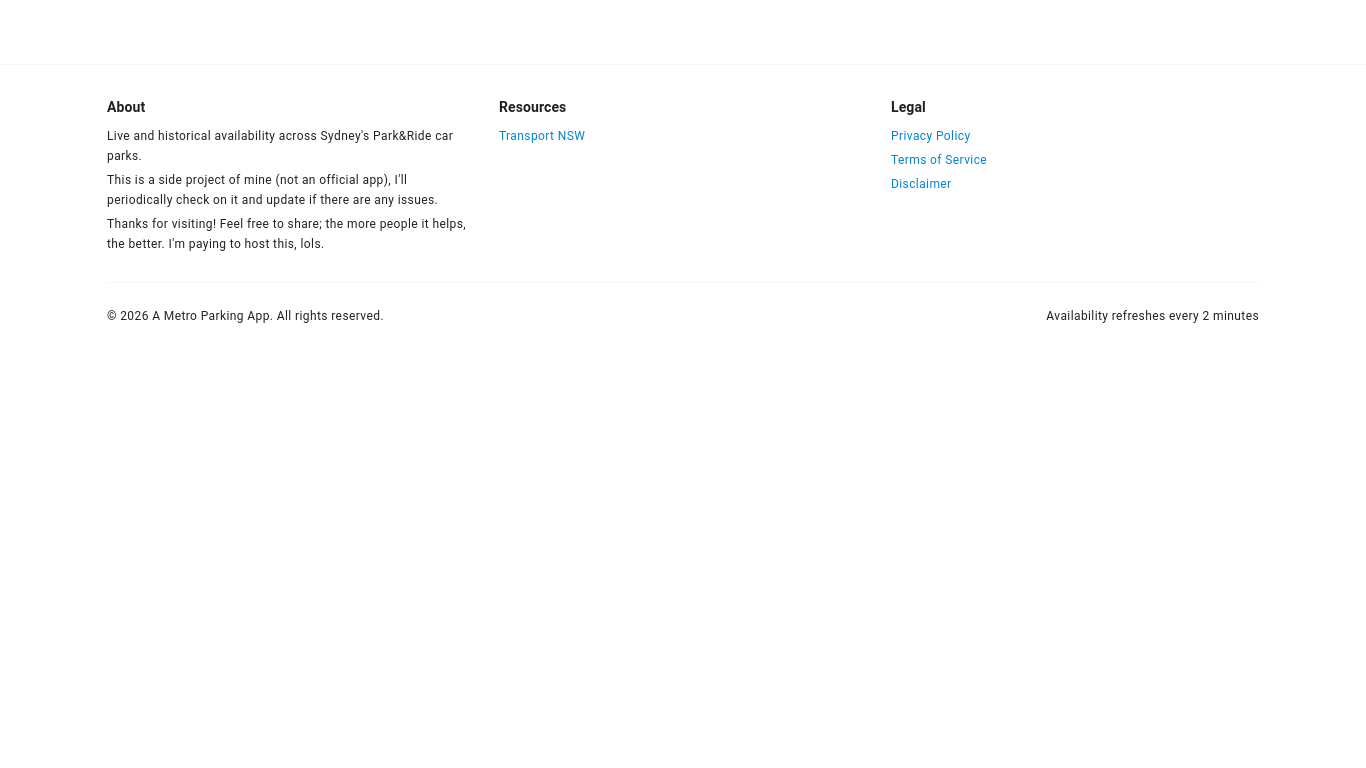
Scenario: Footer › opens privacy policy dialog
Step 1. Click the button "Privacy Policy" → (931, 136), box [891,127,1259,147]
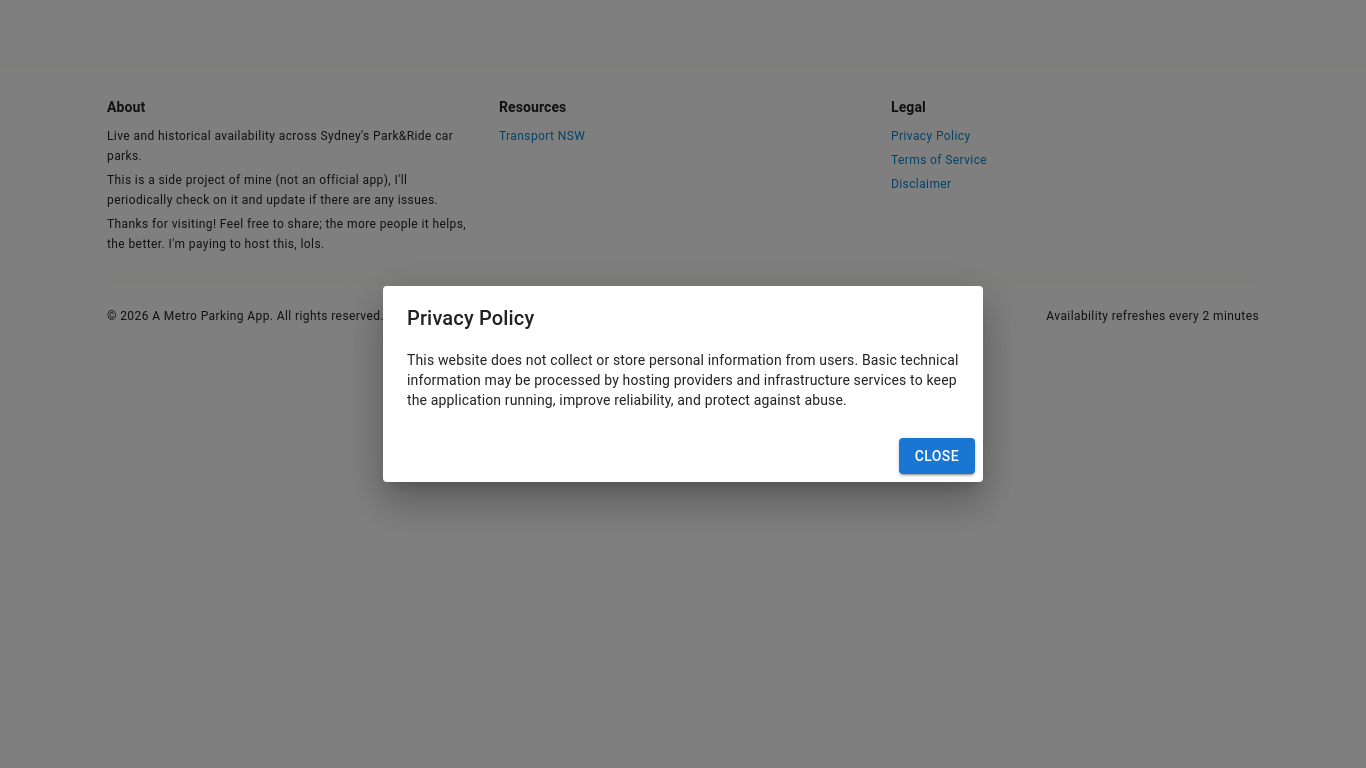
Expected: the dialog is shown, [383,286,983,482]
Expected: the heading "Privacy Policy" is shown, [407,306,534,330]
Expected: the text "does not collect or store personal information" is shown, [407,352,958,408]
